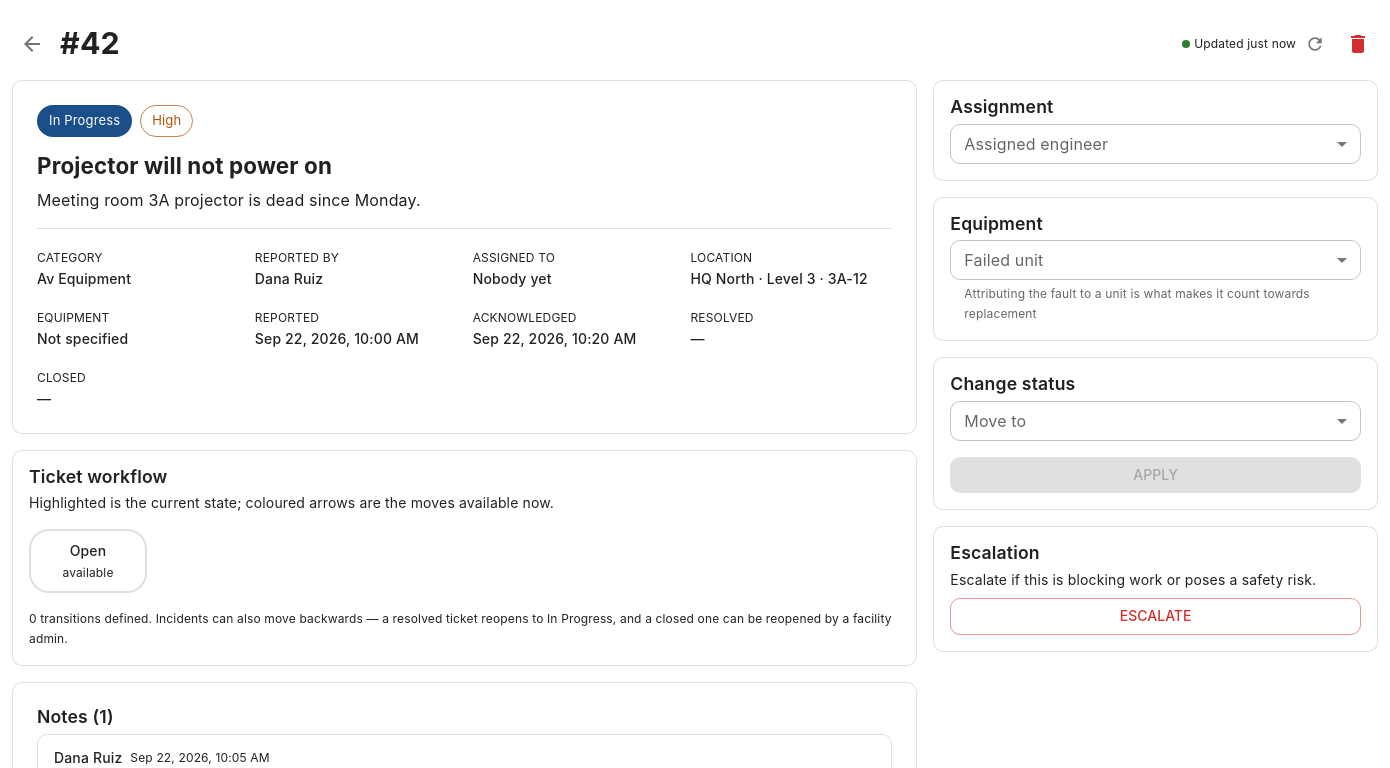
it: assignment › leaves the roster ungrouped when nobody specialises in the incident
expect the heading "Assignment" is shown: met, box [950,96,1053,117]
Click the dropdown next to "Assigned engineer" at [1156, 144], box [950,124,1361,164]
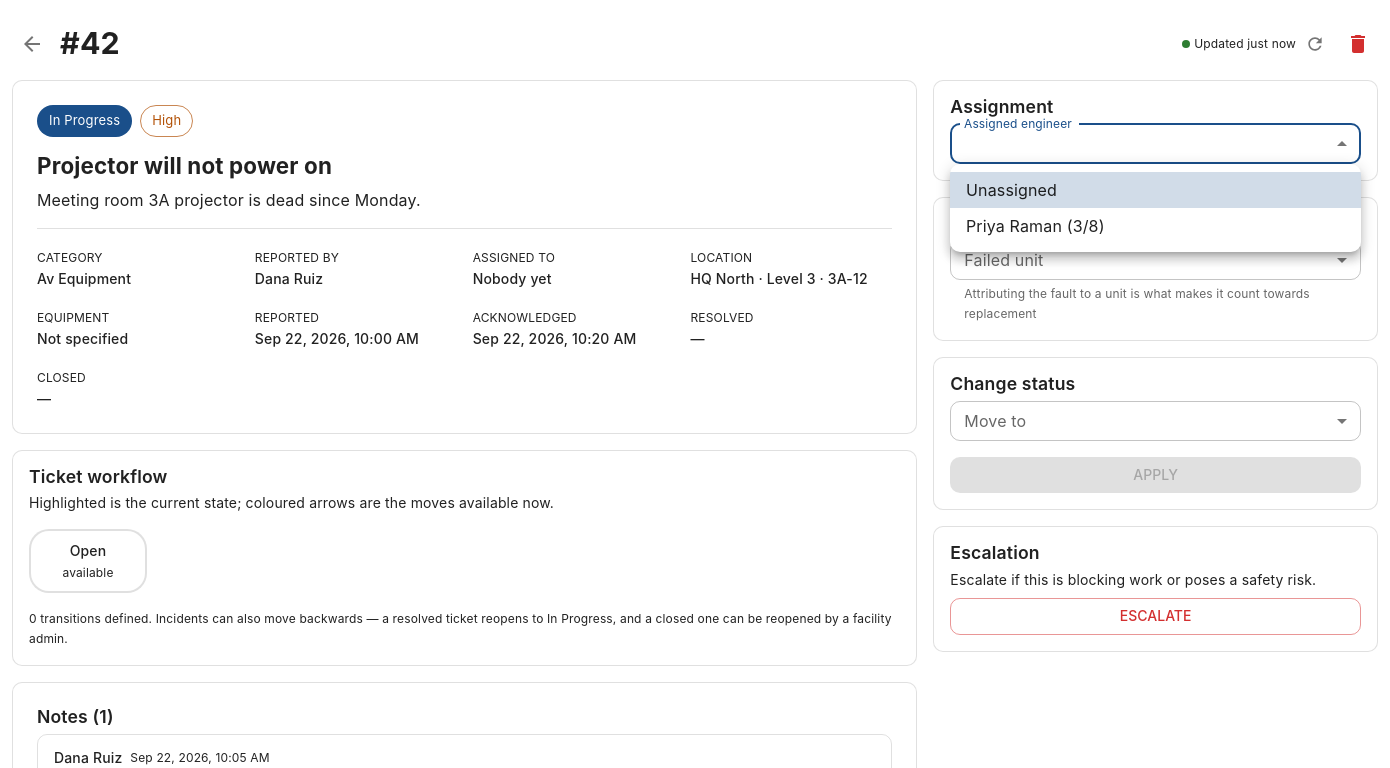
expect the option "Priya Raman (3/8)" is shown: met, box [966,216,1105,236]
